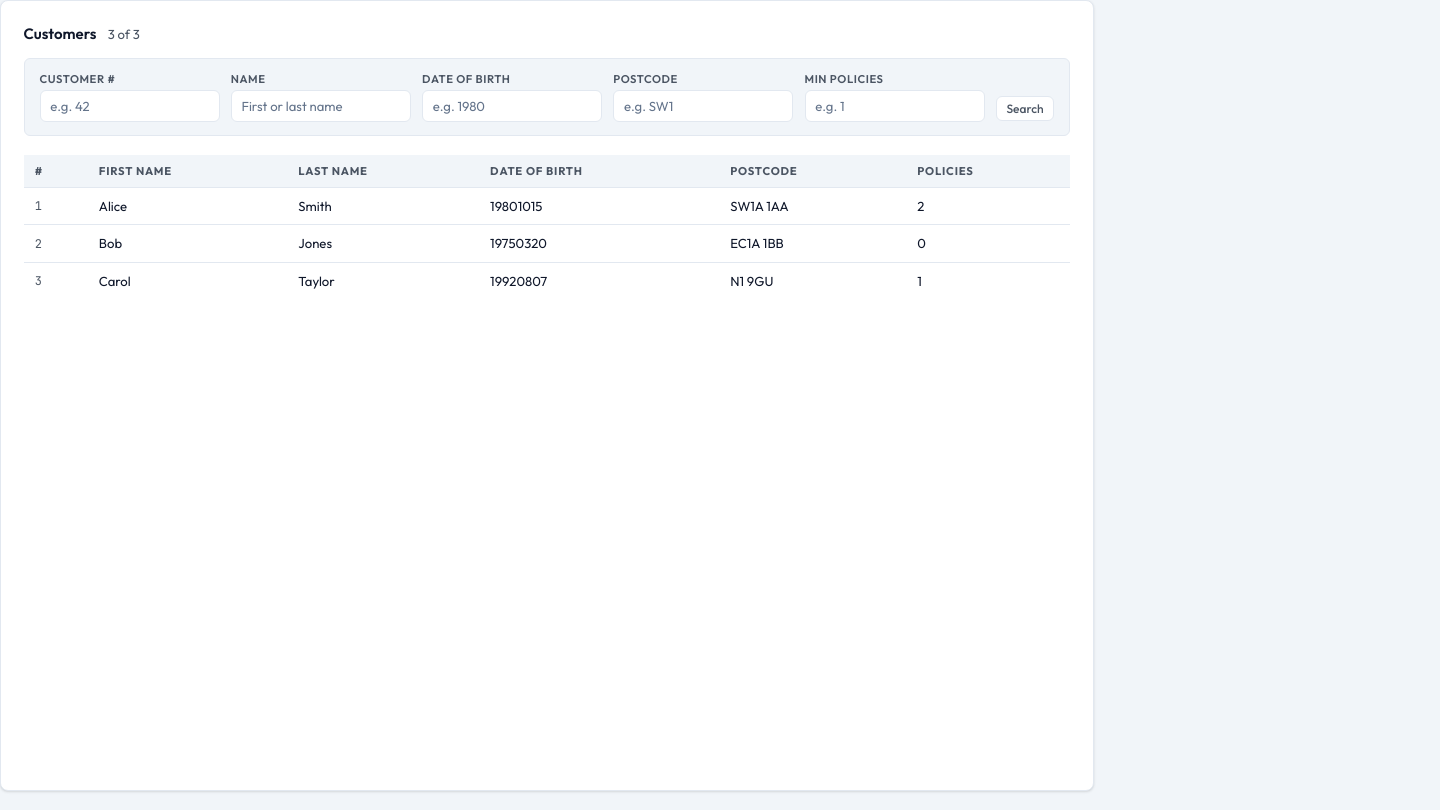
Test: CustomerList – detail panel › clicking Edit shows the inline edit form
The image size is (1440, 810).
Click the row "1 Alice Smith 19801015 SW1A 1AA 2". click: click(547, 206)
box: [24,187,1070,224]
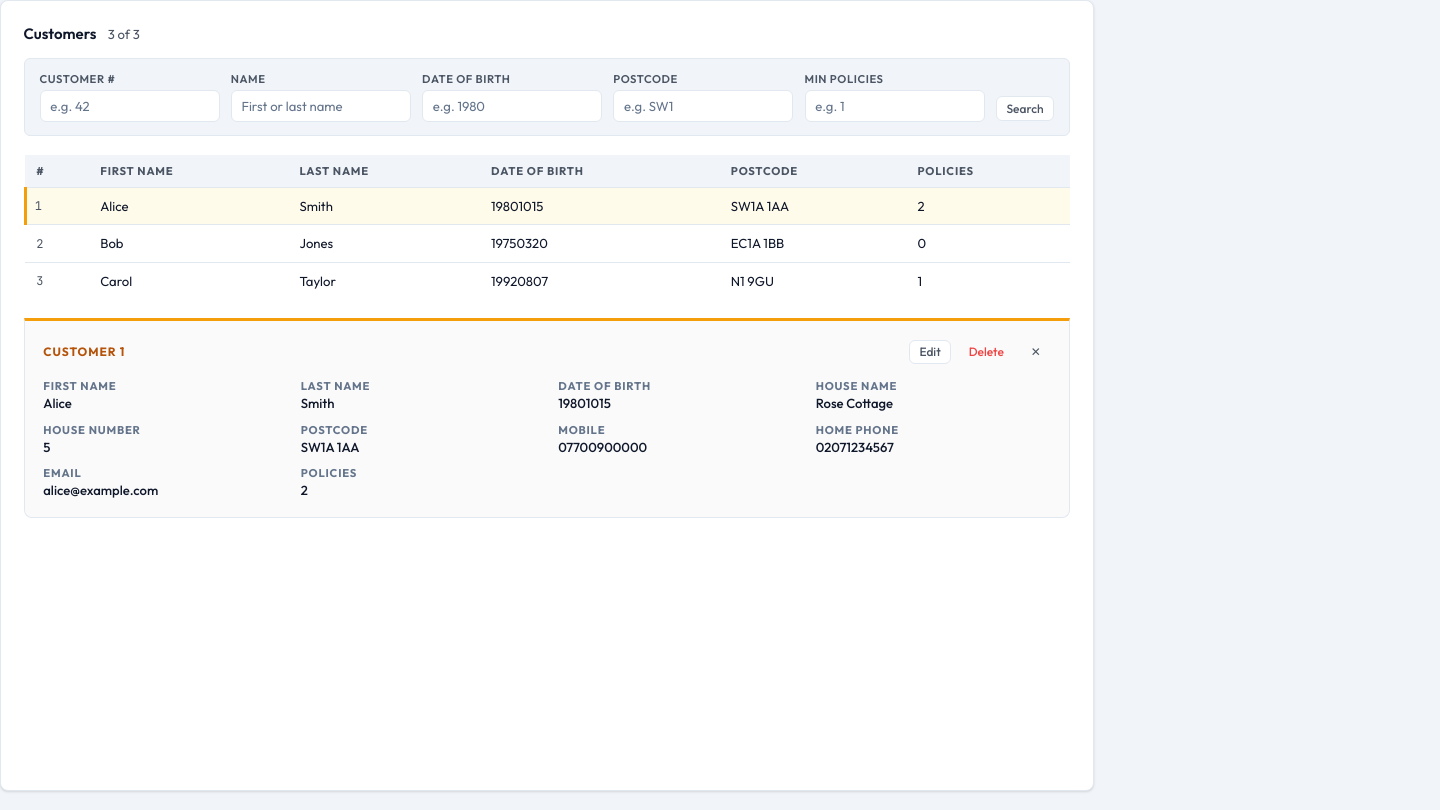
Click the button "Edit". click: click(930, 352)
box: [909,340,952,364]
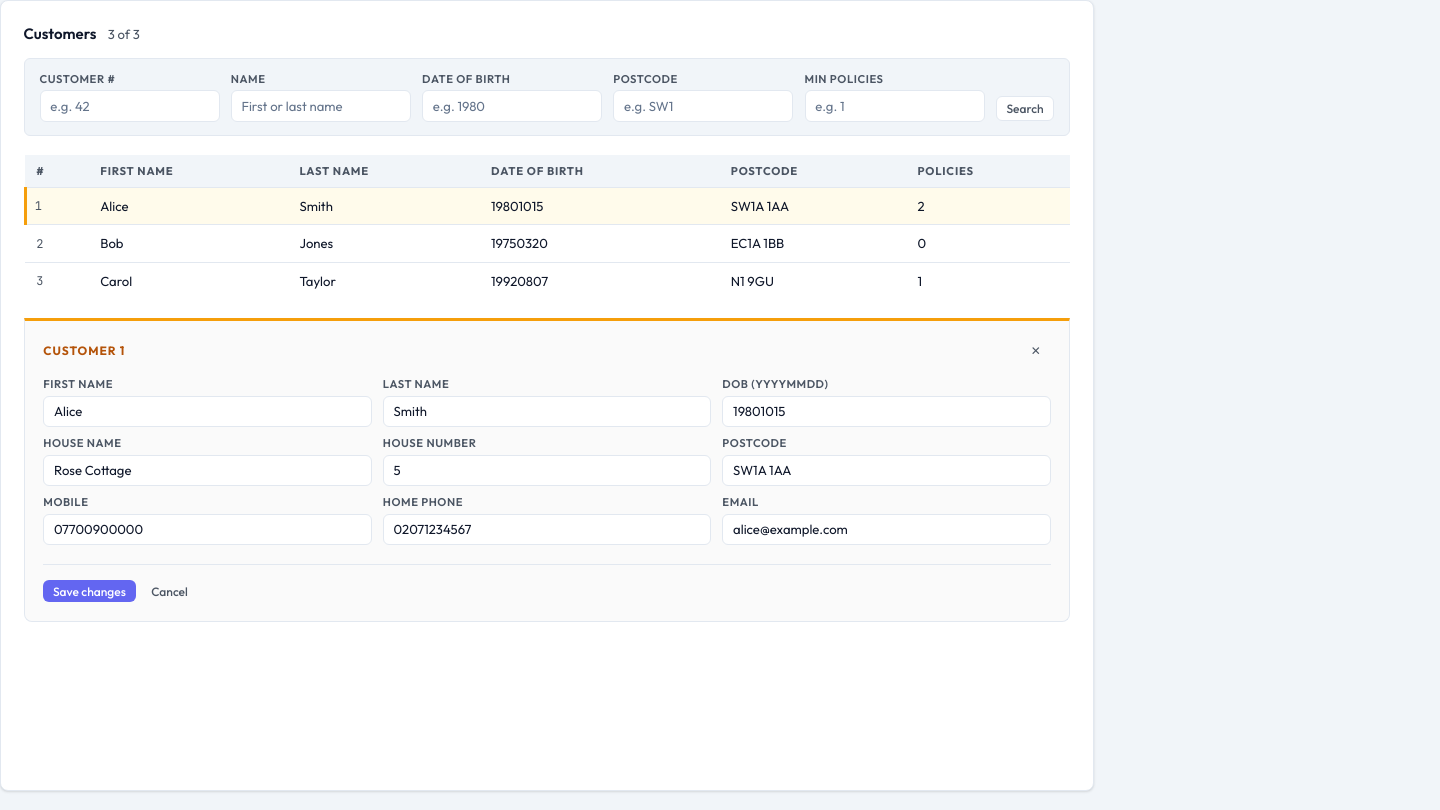
Check: the button "Save changes" is shown, box [43,580,136,602]
Check: the 1st field showing "Alice" is shown, box [43,396,372,427]
Check: the 2nd field showing "Smith" is shown, box [383,396,711,427]
